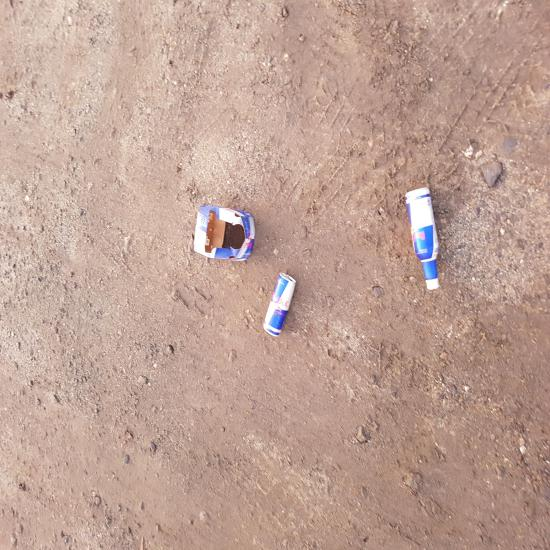Other plastic: (57, 213, 120, 287), (47, 165, 95, 230)
Styrofoam piece: (106, 155, 130, 177), (122, 43, 136, 64)
